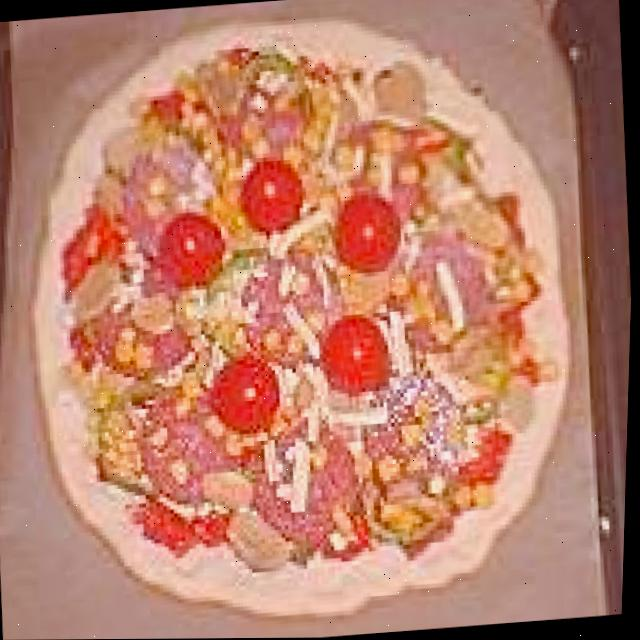汉堡快餐: (10, 3, 608, 629)
